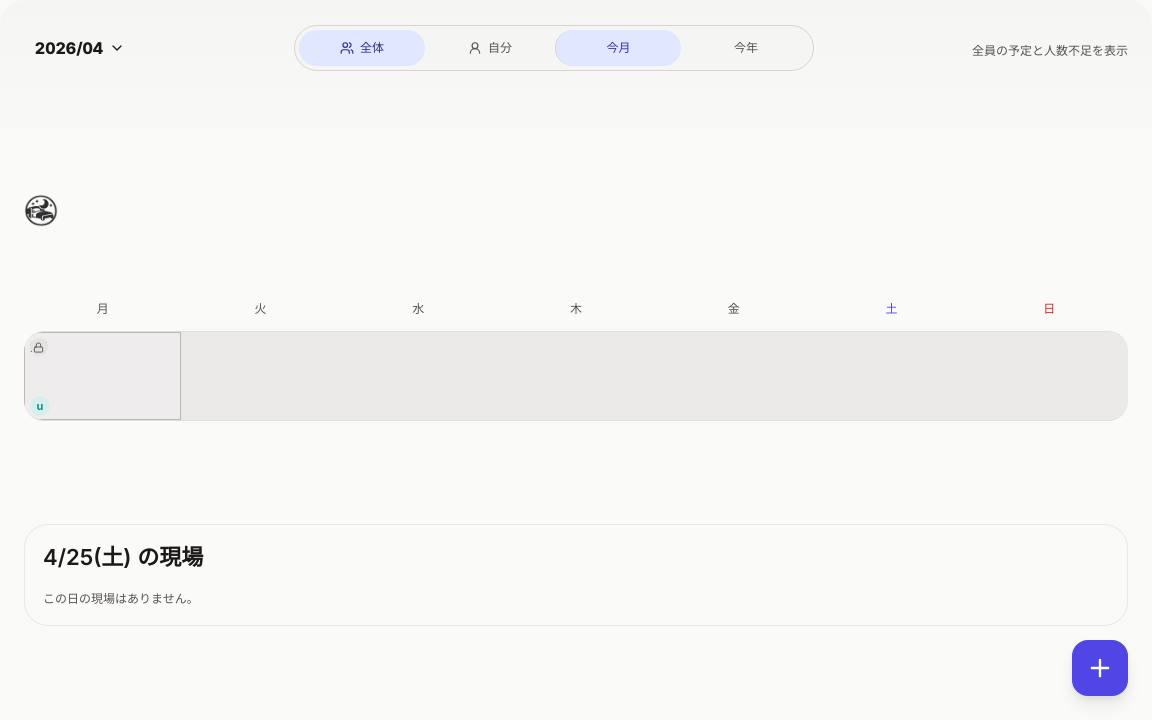
Scenario: Calendar page › switches to year view summary and back to the month calendar
Click the button "今年" at (746, 48), box 683,30 -> 809,66
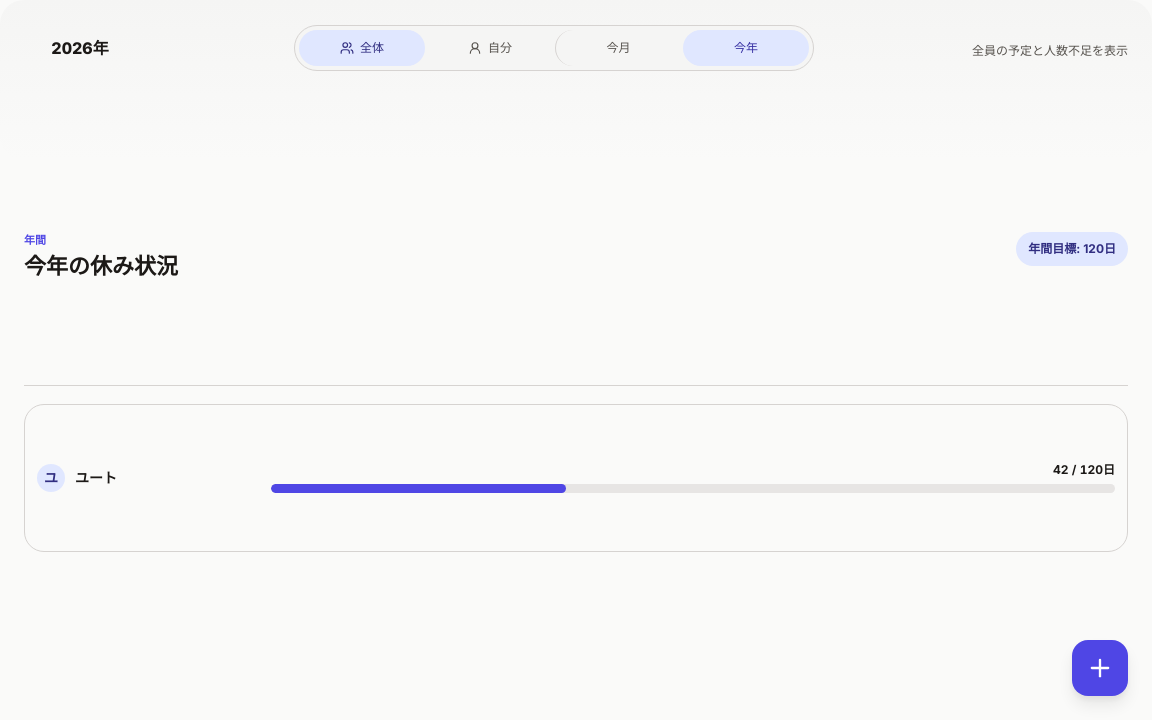
Now the heading "今年の休み状況" is shown, box 24,252 -> 178,280
Now the text "年間目標: 120日" is shown, box 1016,232 -> 1128,266
Now the text "42 / 120日" is shown, box 1053,462 -> 1115,478
Click the button "今月" at (618, 48), box 555,30 -> 681,66
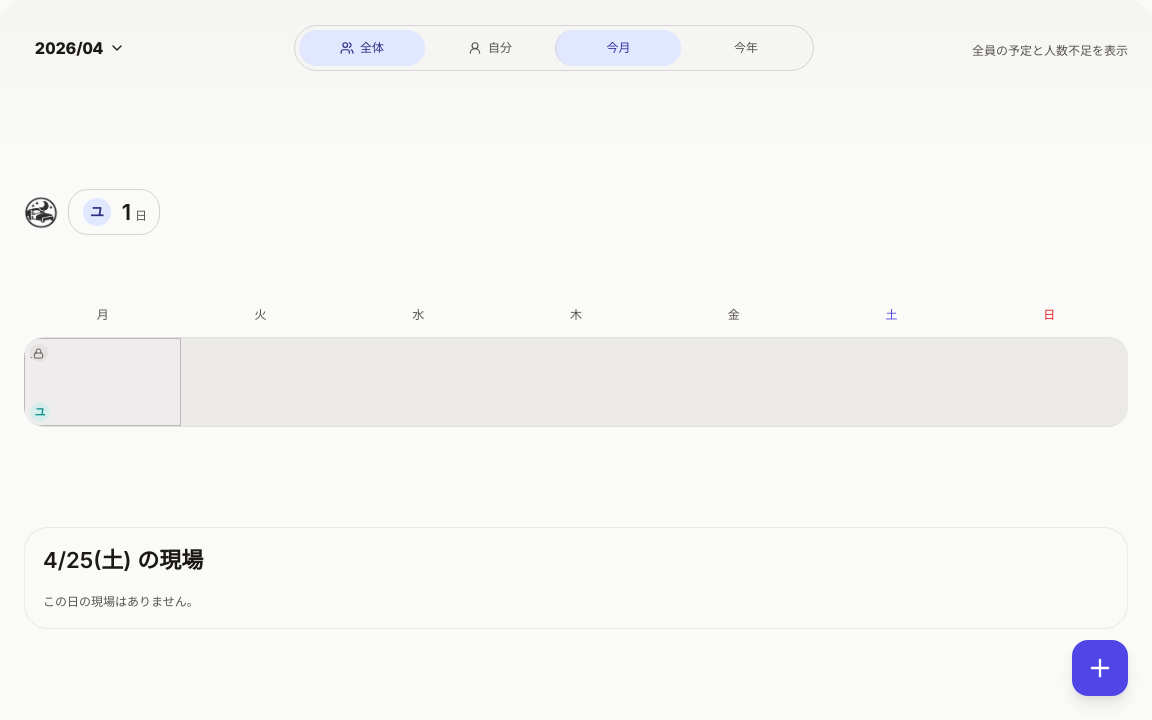
Now the element named "4月の休み数" is shown, box 24,189 -> 160,235
Now the element named "ユート 1日" is shown, box 68,189 -> 160,235
Now the button named "25日" is shown, box 24,338 -> 181,426
